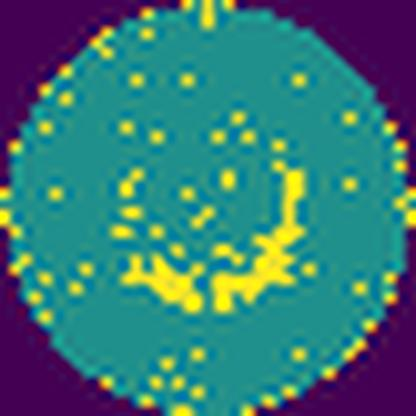Donut: (107, 106, 324, 322)
